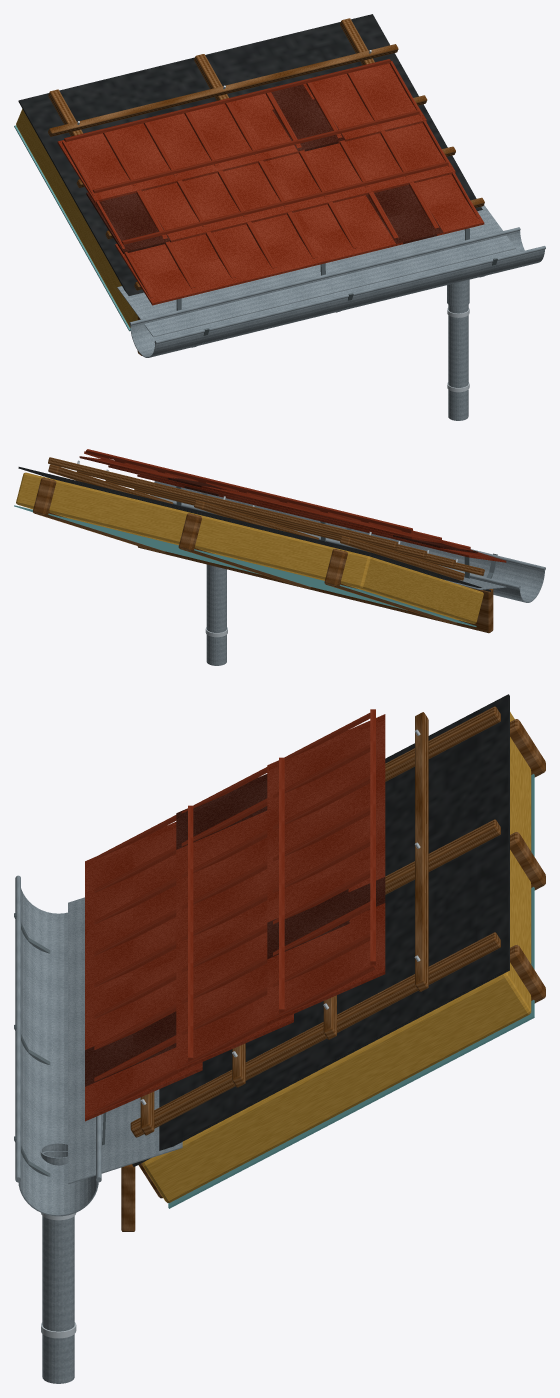
The model's file is modell.glb.
3 views of the same model, one above another, from view 1: azimuth 30°, elevation 25°; view 2: azimuth 150°, elevation 25°; view 3: azimuth 270°, elevation 25° (orthographic). The views are drawn at different scales.
Visible parts, largest first — view 1: s03-deckziegel_deckung, s03-zusatzebene_zusatzebene, s03-rinne_, s03-traufblech_zusatzebene, s03-deckziegel_deckung.001, s03-lattung_lattung, s03-daemmung_daemmung, s03-fallrohr_, s03-luftdichtheit_luftdichtheit, s03-stutzen_; view 2: s03-daemmung_daemmung, s03-lattung_lattung, s03-deckziegel_deckung, s03-rinne_, s03-sparren_tragwerk, s03-luftdichtheit_luftdichtheit, s03-zusatzebene_zusatzebene, s03-fallrohr_, s03-lattung_tragwerk, s03-deckziegel_deckung.001, s03-traufblech_zusatzebene, s03-halter_; view 3: s03-deckziegel_deckung, s03-zusatzebene_zusatzebene, s03-daemmung_daemmung, s03-rinne_, s03-lattung_lattung, s03-traufblech_zusatzebene, s03-deckziegel_deckung.001, s03-fallrohr_, s03-sparren_tragwerk, s03-luftdichtheit_luftdichtheit, s03-lattung_tragwerk.
Boxes of the visible parts, <box> form: s03-deckziegel_deckung: <box>57,59,484,305</box>; s03-zusatzebene_zusatzebene: <box>18,14,482,295</box>; s03-rinne_: <box>129,227,545,357</box>; s03-traufblech_zusatzebene: <box>117,205,515,337</box>; s03-deckziegel_deckung.001: <box>86,84,443,253</box>; s03-lattung_lattung: <box>48,18,484,290</box>; s03-daemmung_daemmung: <box>16,109,137,327</box>; s03-fallrohr_: <box>448,304,468,420</box>; s03-luftdichtheit_luftdichtheit: <box>14,125,130,331</box>; s03-stutzen_: <box>447,279,469,306</box>; s03-daemmung_daemmung: <box>16,472,483,623</box>; s03-lattung_lattung: <box>48,457,484,580</box>; s03-deckziegel_deckung: <box>79,449,506,562</box>; s03-rinne_: <box>150,481,545,602</box>; s03-sparren_tragwerk: <box>33,477,457,624</box>; s03-luftdichtheit_luftdichtheit: <box>14,505,476,626</box>; s03-zusatzebene_zusatzebene: <box>18,467,491,591</box>; s03-fallrohr_: <box>206,564,226,665</box>; s03-lattung_tragwerk: <box>137,546,493,633</box>; s03-deckziegel_deckung.001: <box>167,477,477,553</box>; s03-traufblech_zusatzebene: <box>444,576,506,589</box>; s03-halter_: <box>176,486,497,578</box>; s03-deckziegel_deckung: <box>85,709,385,1121</box>; s03-zusatzebene_zusatzebene: <box>132,694,509,1166</box>; s03-daemmung_daemmung: <box>142,712,531,1202</box>; s03-rinne_: <box>15,875,101,1216</box>; s03-lattung_lattung: <box>130,706,500,1137</box>; s03-traufblech_zusatzebene: <box>68,897,182,1184</box>; s03-deckziegel_deckung.001: <box>85,774,385,1086</box>; s03-fallrohr_: <box>42,1216,74,1383</box>; s03-sparren_tragwerk: <box>138,719,545,1198</box>; s03-luftdichtheit_luftdichtheit: <box>168,774,534,1208</box>; s03-lattung_tragwerk: <box>121,1164,135,1231</box>.
Bounding box in the file's own units: 2.3 × 1.64 × 1.71.
9 materials, 6 textured.
